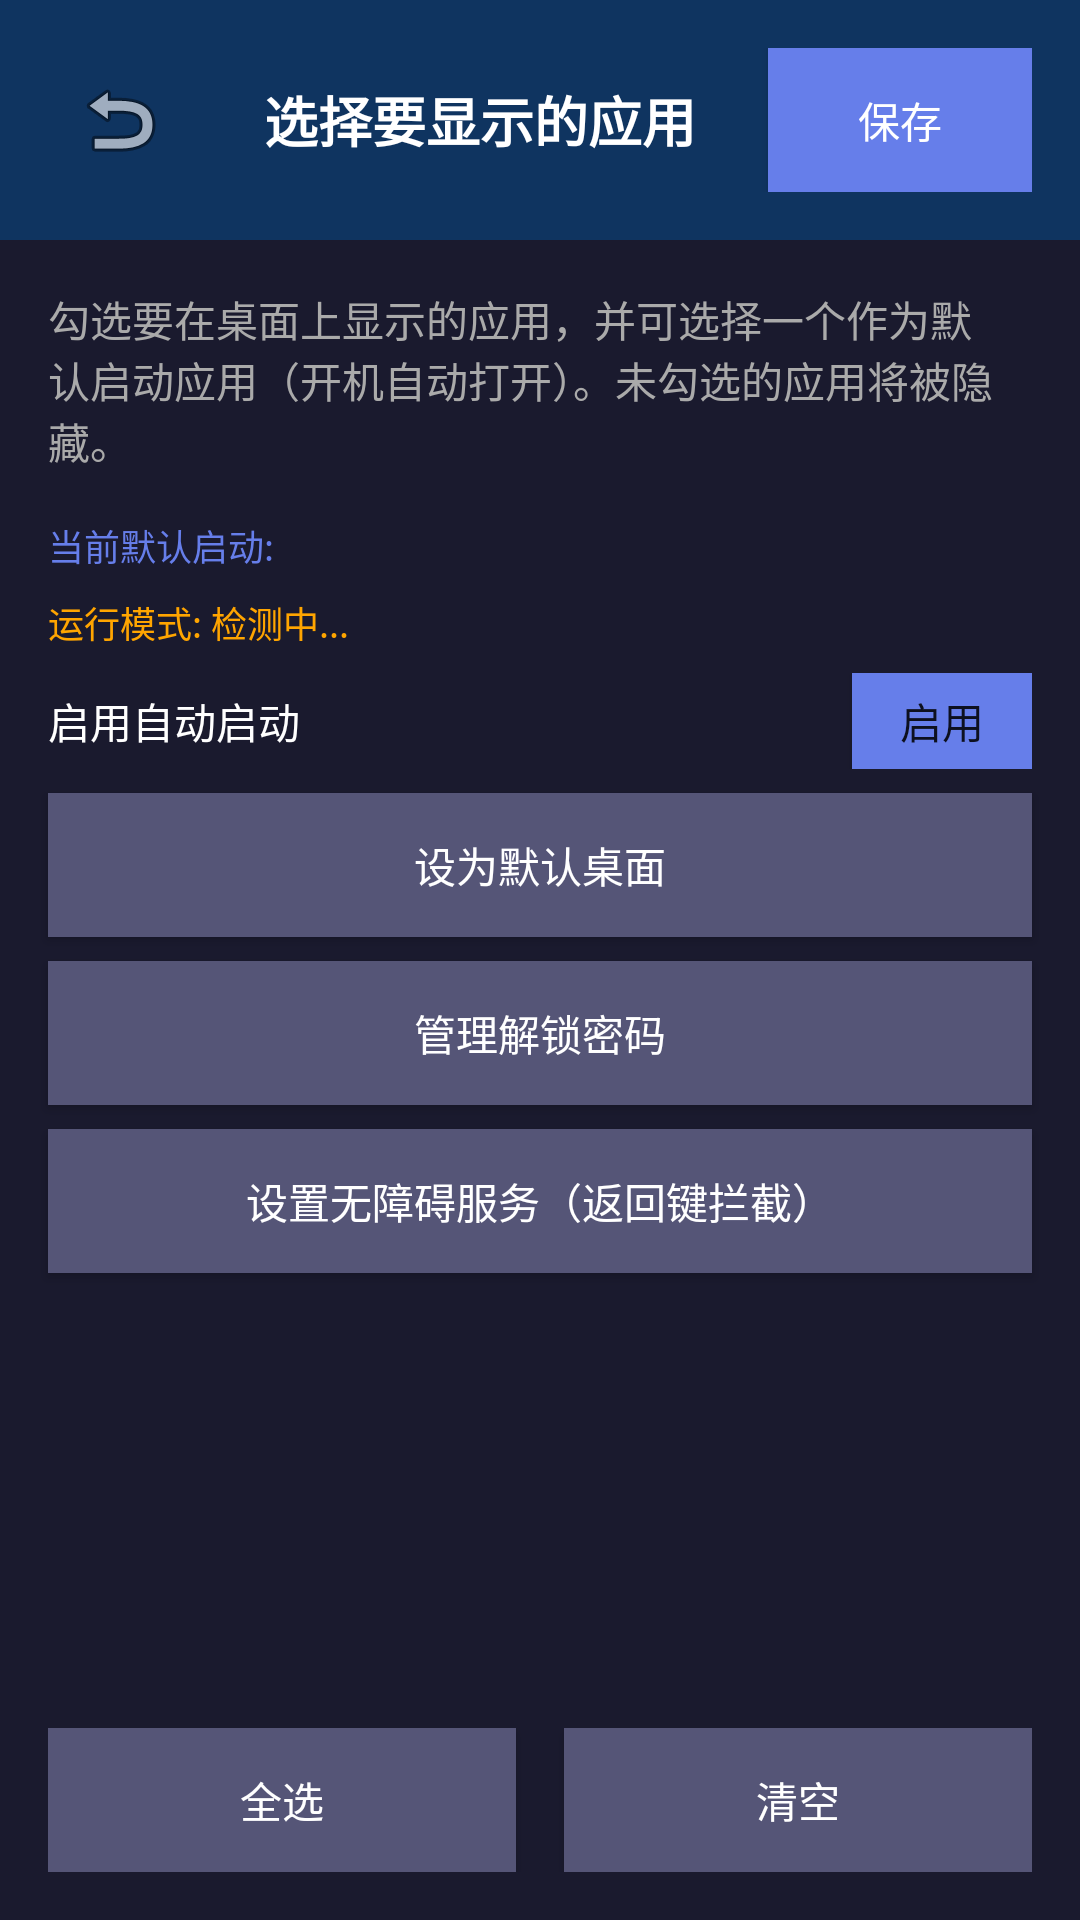

Icons on this 1080px×1920px Android screen, each with its box as box=[x1, y1, x2, y2]:
返回: box=[87, 90, 155, 152]
